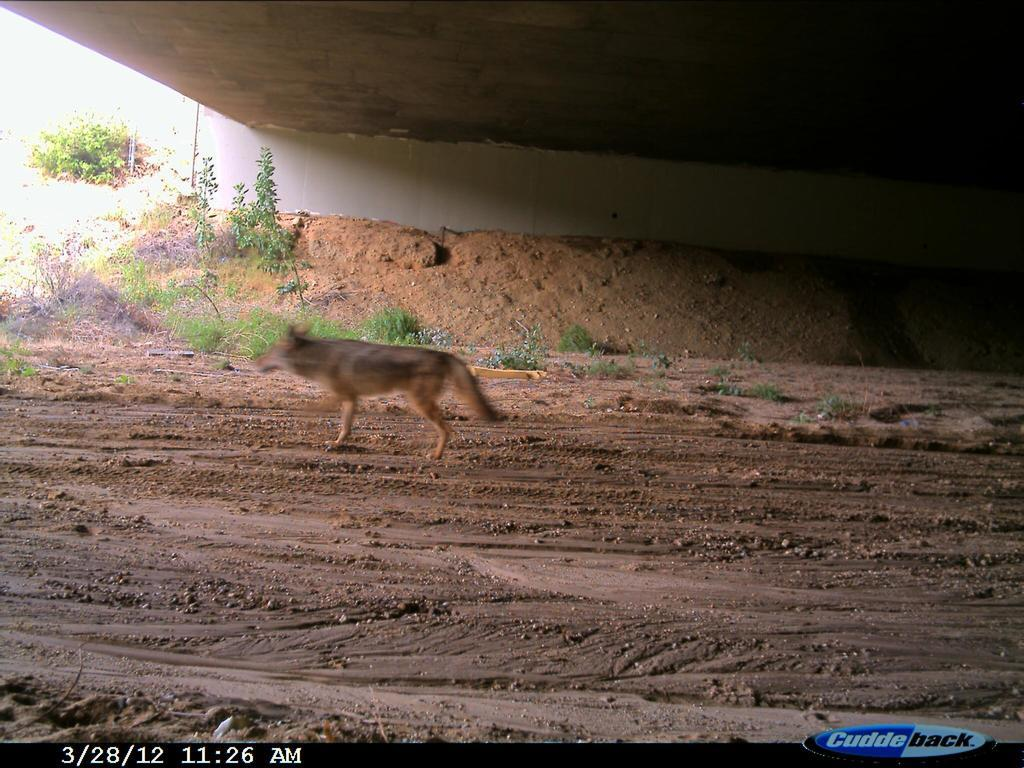coyote: (230, 318, 513, 477)
